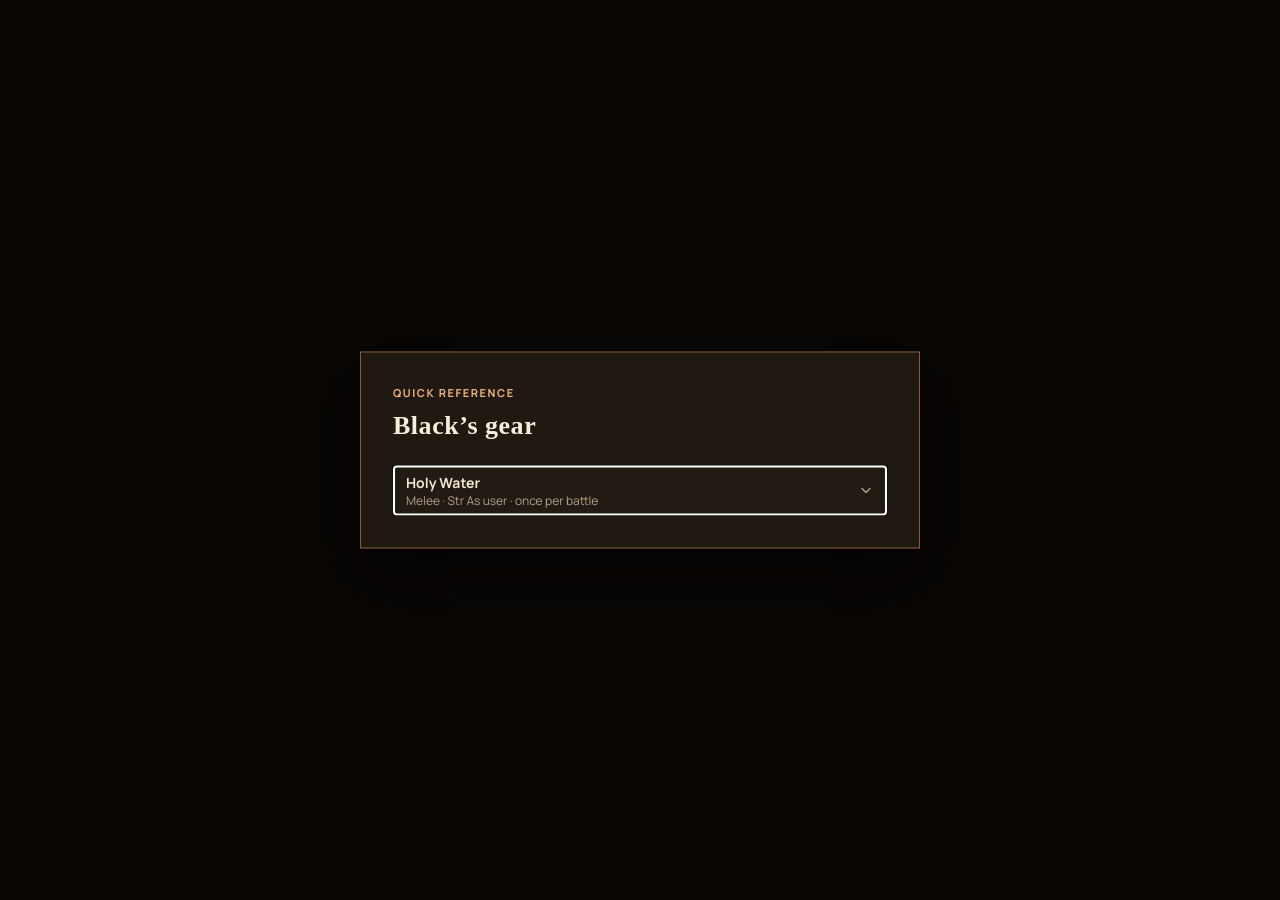
it: the gear quick reference › reads out an item's rules and leaves its flavour on its page
What coordinates should you click on to do the following:
click the button "Holy Water Melee · Str As user · once per battle"
I would click on:
 (443, 482)
Its box is [394,466,886,514].
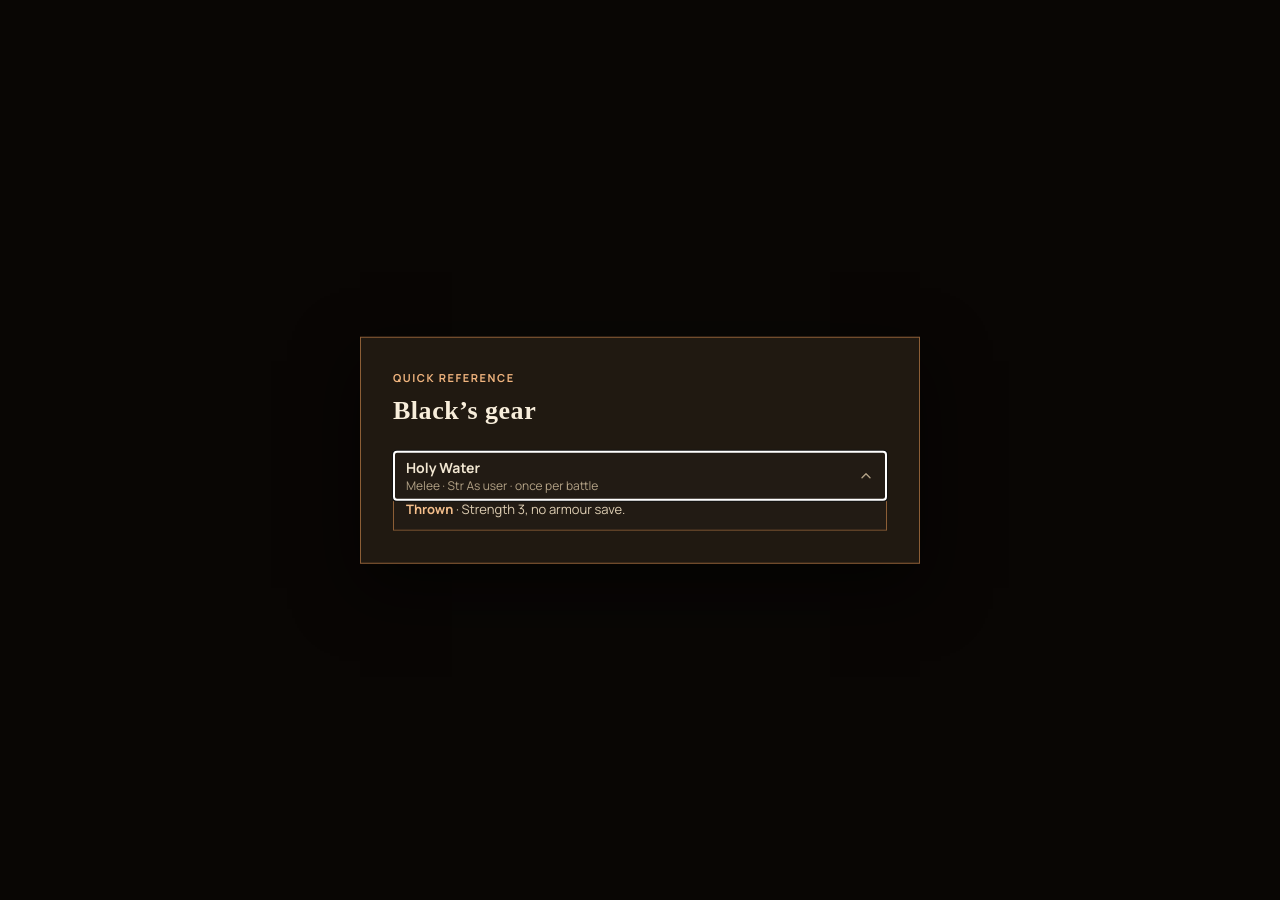
Expected: the text "Thrown · Strength 3, no armour save." is shown, [406,500,625,518]
